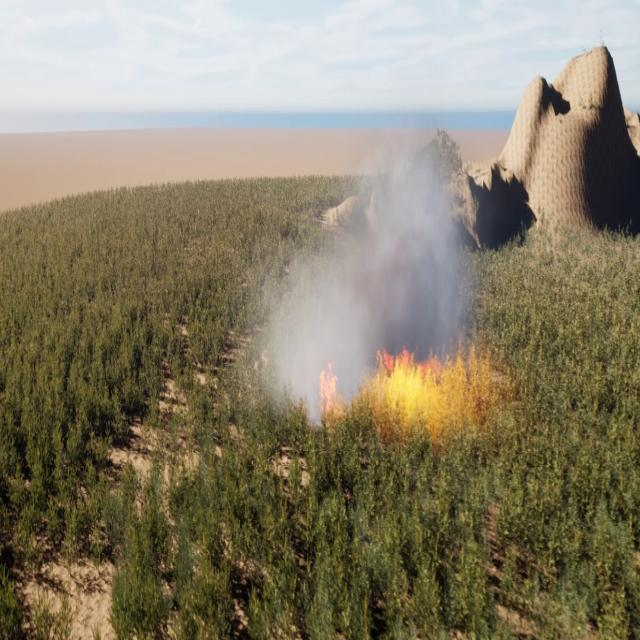fire: (362, 342, 510, 435), (318, 363, 348, 419)
smoke: (242, 122, 478, 424)
